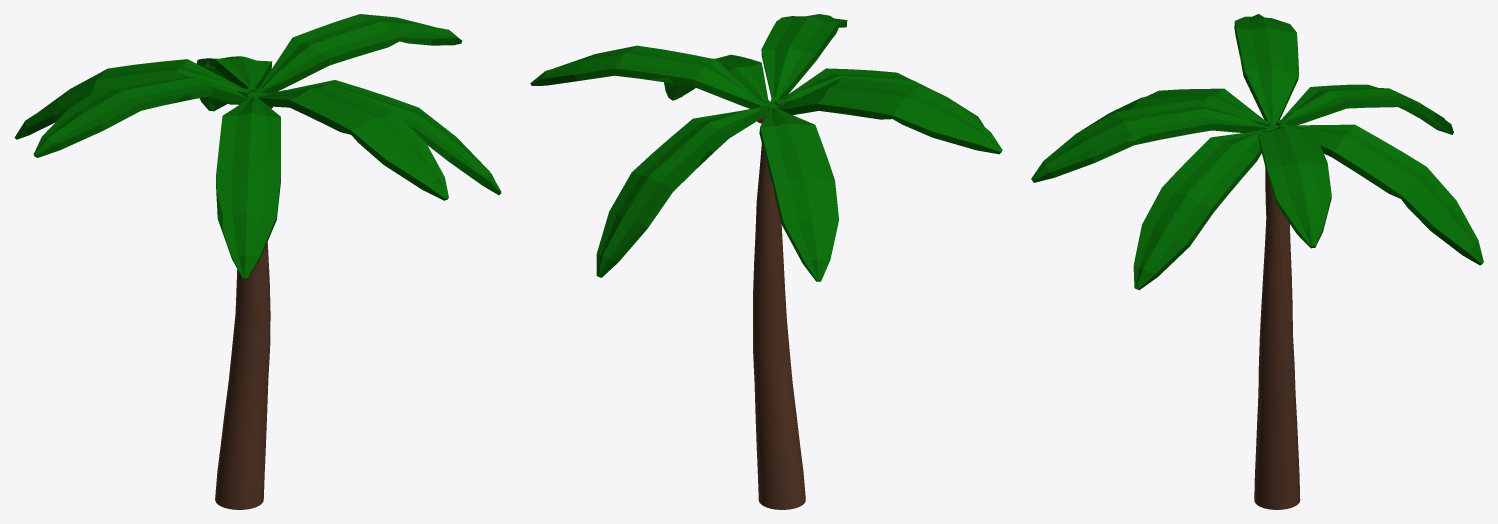
The model's file is palm tree_a.fbx.
The picture shows the model from 3 angles, left to right: view 1: azimuth 30°, elevation 25°; view 2: azimuth 150°, elevation 25°; view 3: azimuth 270°, elevation 25°; orthographic projection. The views are drawn at different scales.
Visible parts, largest first — view 1: Cylinder.025; view 2: Cylinder.025; view 3: Cylinder.025.
Boxes of the visible parts, box(x1,y1,x2,y2) form: Cylinder.025: box(14, 14, 501, 509); Cylinder.025: box(530, 14, 1002, 509); Cylinder.025: box(1031, 14, 1483, 509).
Size of the model in its own units: 732 by 678 by 667.
Materials: 3 (1 with a texture image).
